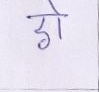o_matra: (50, 2, 66, 39)
